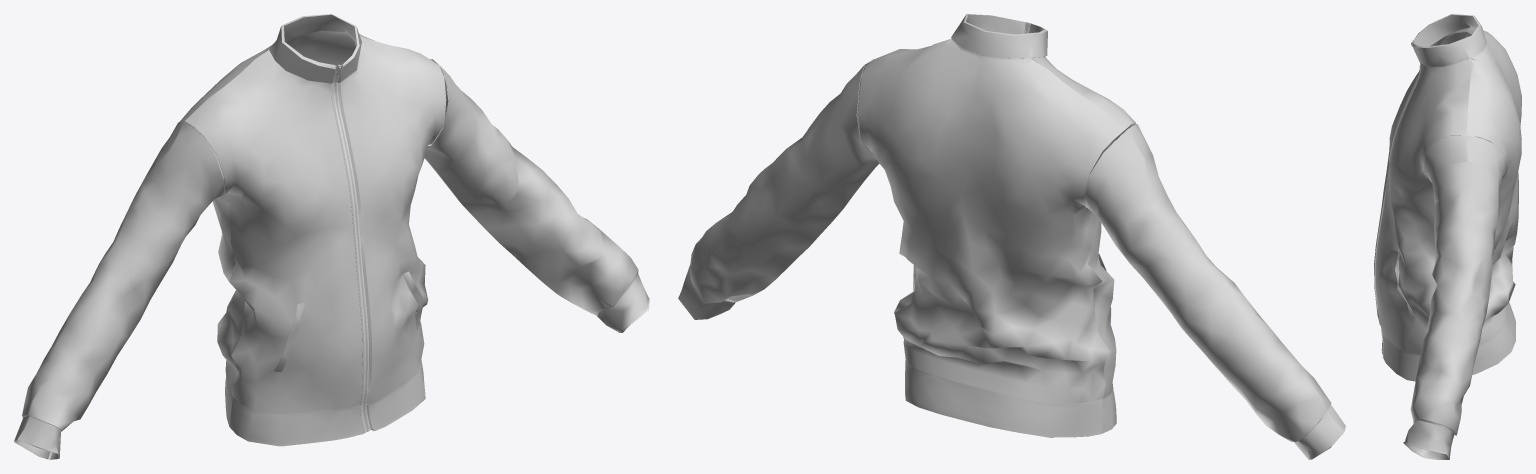
The picture shows the model from 3 angles, left to right: view 1: azimuth 30°, elevation 25°; view 2: azimuth 150°, elevation 25°; view 3: azimuth 270°, elevation 25°; orthographic projection. The views are drawn at different scales.
Parts seen in each view (by area): view 1: Cloth; view 2: Cloth; view 3: Cloth.
Boxes of the visible parts, x1=… form: Cloth: x1=14, y1=14, x2=649, y2=459; Cloth: x1=678, y1=14, x2=1345, y2=459; Cloth: x1=1374, y1=14, x2=1521, y2=459.
Size of the model in its own units: 1.19 by 0.6832 by 0.2801.
13 materials, 12 textured.
